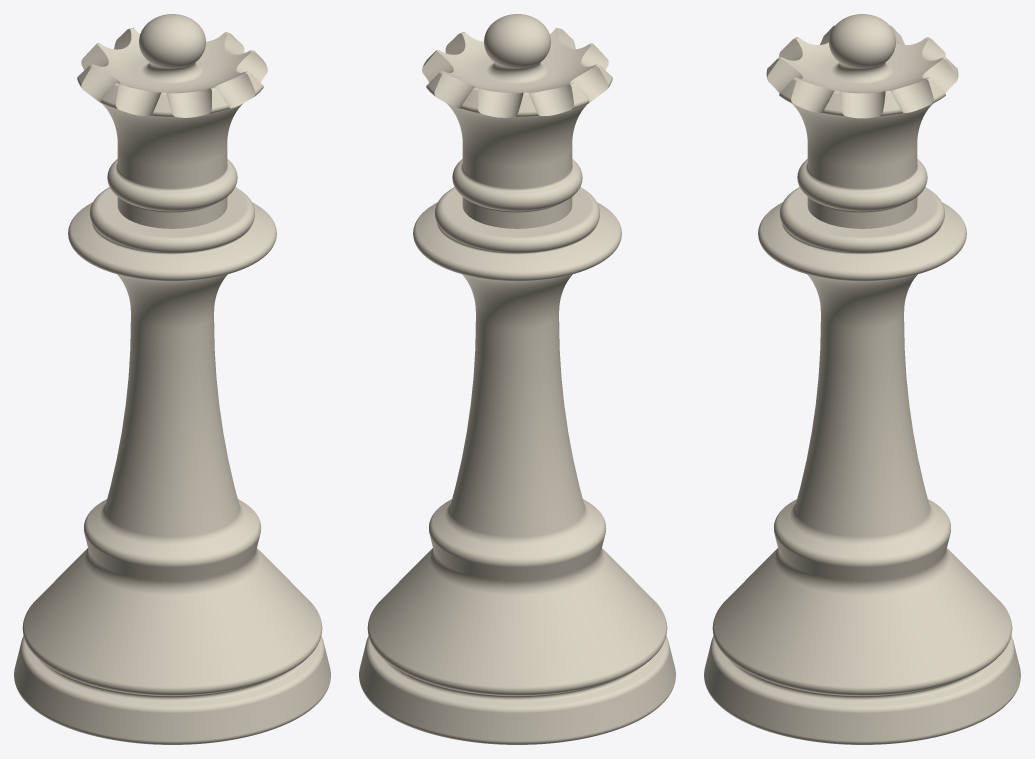
File: queen_small.glb
3 views of the same model, side by side, from view 1: azimuth 30°, elevation 25°; view 2: azimuth 150°, elevation 25°; view 3: azimuth 270°, elevation 25° (orthographic).
Visible parts, largest first — view 1: Object_2; view 2: Object_2; view 3: Object_2.
Boxes of the visible parts, left/top/right/bottom form: Object_2: left=14, top=14, right=330, bottom=744; Object_2: left=359, top=14, right=675, bottom=744; Object_2: left=704, top=14, right=1020, bottom=744.
Bounding box in the file's own units: 40.76 × 93.92 × 40.75.
